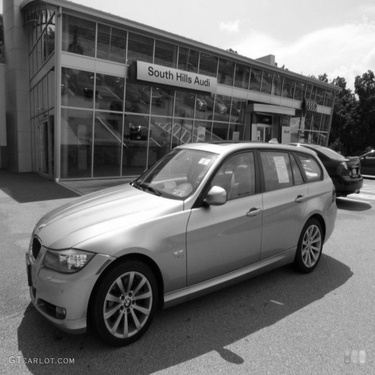car: (21, 140, 342, 350), (267, 138, 366, 201), (108, 98, 162, 151), (354, 145, 373, 184)
